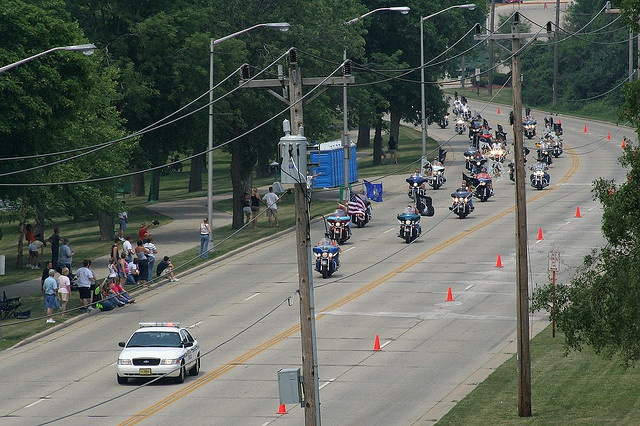non-vehicle: (312, 238, 341, 278), (324, 209, 350, 244), (397, 207, 421, 243), (450, 186, 474, 218), (422, 161, 446, 189), (473, 172, 494, 202), (405, 171, 426, 200), (529, 160, 549, 190), (351, 198, 371, 227), (521, 114, 537, 138), (435, 111, 449, 127)
